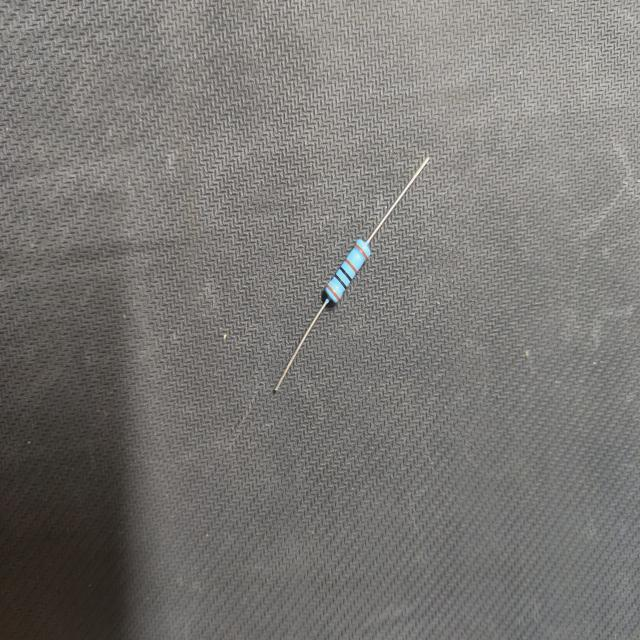resistor: (268, 149, 434, 403)
